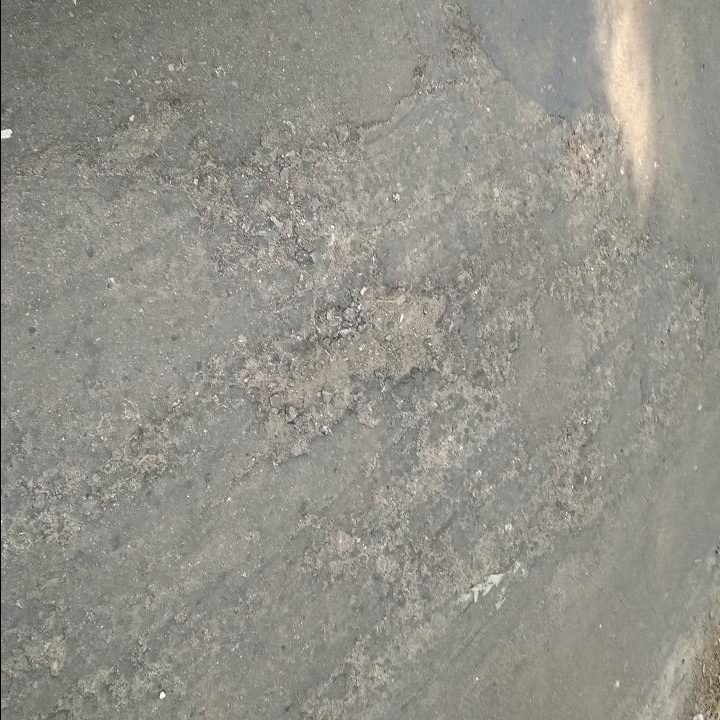pothole: (247, 273, 459, 466)
